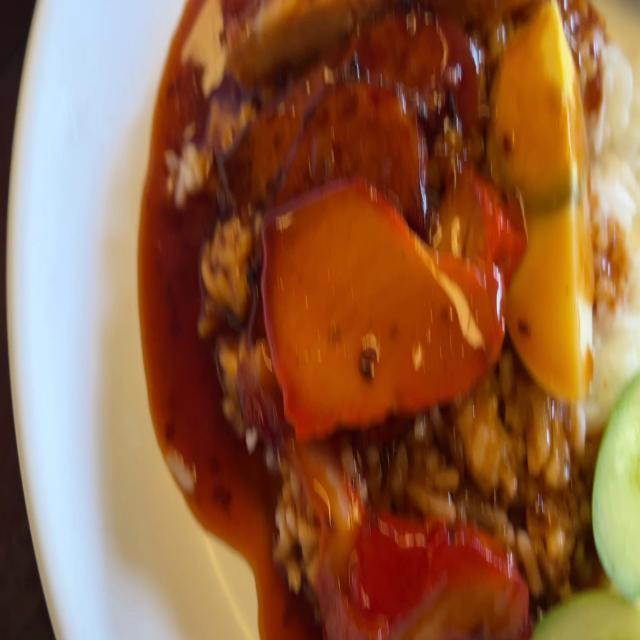boiled_egg: (222, 20, 475, 192)
cucumber: (595, 380, 640, 590), (531, 584, 640, 640)
egg_noodles: (488, 0, 592, 409)
red_pork: (262, 197, 481, 405), (312, 492, 524, 640)
red_pork_and_crispy_pork: (137, 0, 640, 640)
